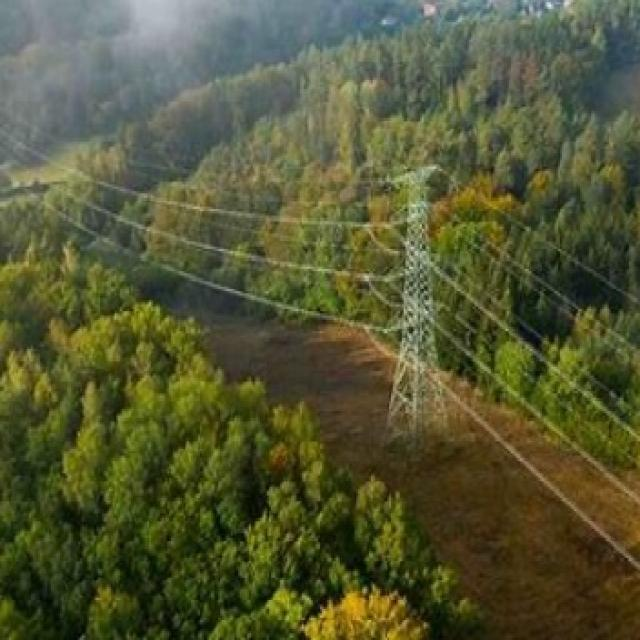utility poles: (371, 145, 459, 440)
